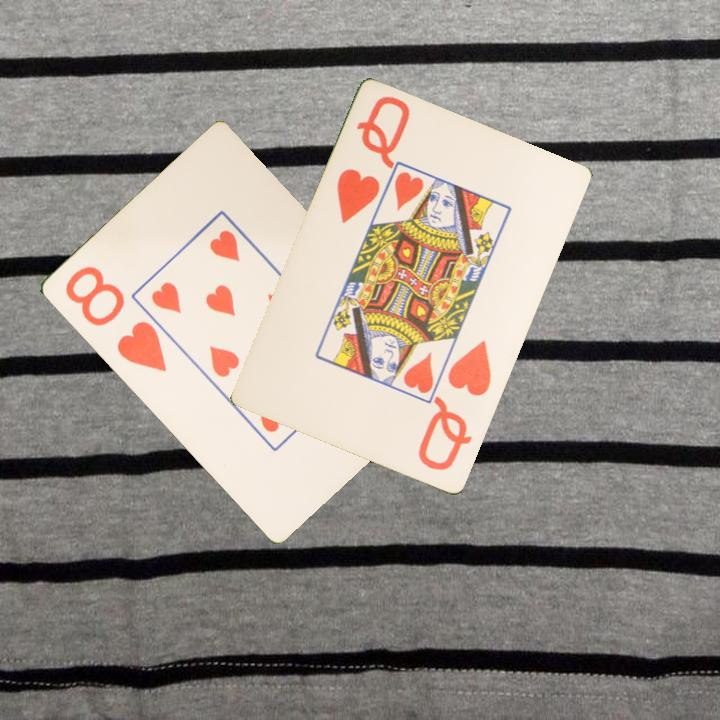8h: (60, 262, 169, 376)
Qh: (414, 337, 495, 474), (333, 93, 413, 227)
